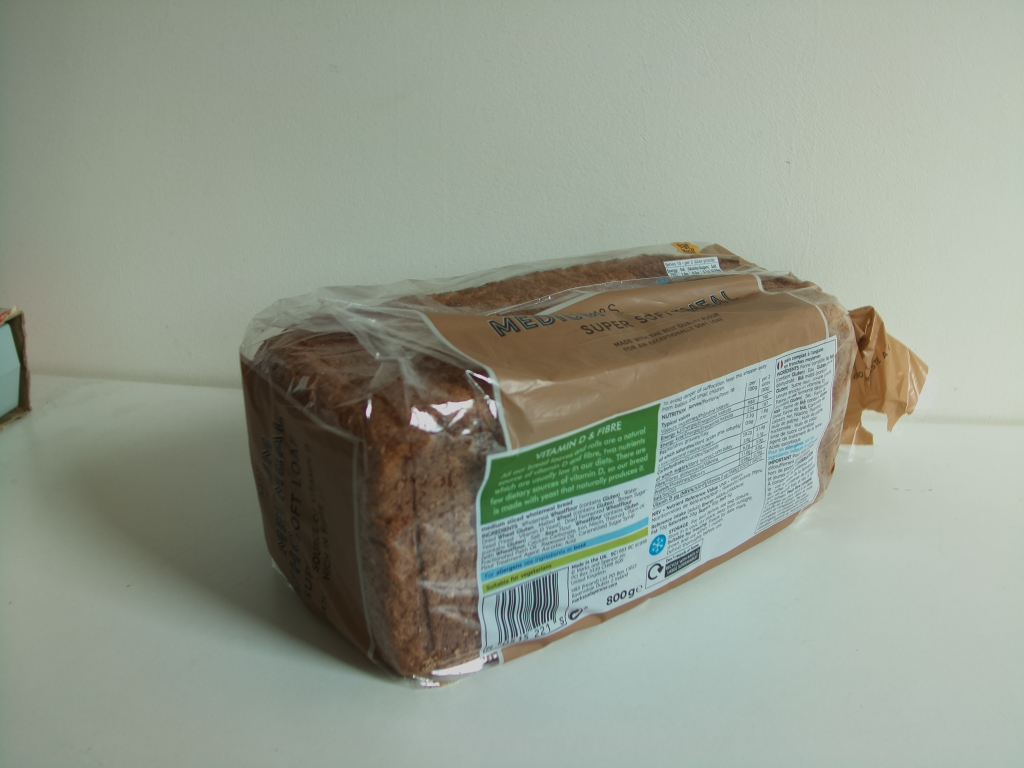bread: (238, 235, 931, 689)
